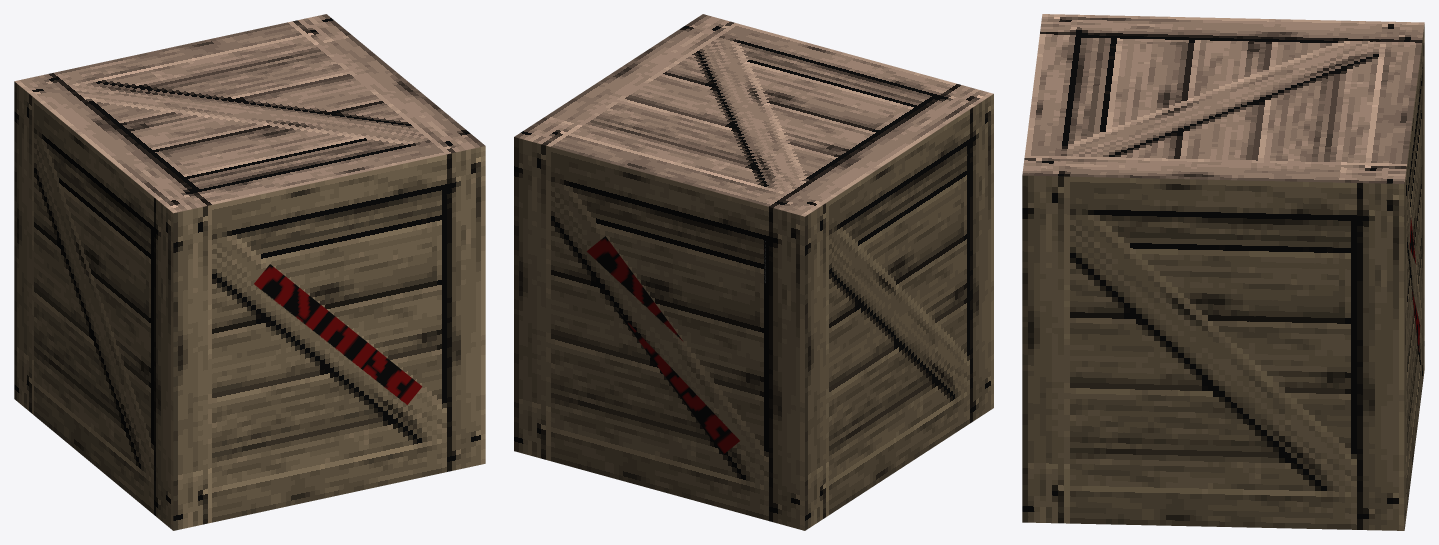
The model's file is primary_090.glb.
3 renders of one model, left to right at view 1: azimuth 30°, elevation 25°; view 2: azimuth 150°, elevation 25°; view 3: azimuth 270°, elevation 25°, orthographic. The views are drawn at different scales.
Parts seen in each view (by area): view 1: Object; view 2: Object; view 3: Object.
Boxes of the visible parts, x1,y1,x2,y2 form: Object: (14, 14, 485, 530); Object: (514, 14, 993, 530); Object: (1022, 14, 1424, 530).
Bounding box in the file's own units: 1.29 × 1.23 × 1.29.
Materials: 7 (7 with a texture image).
